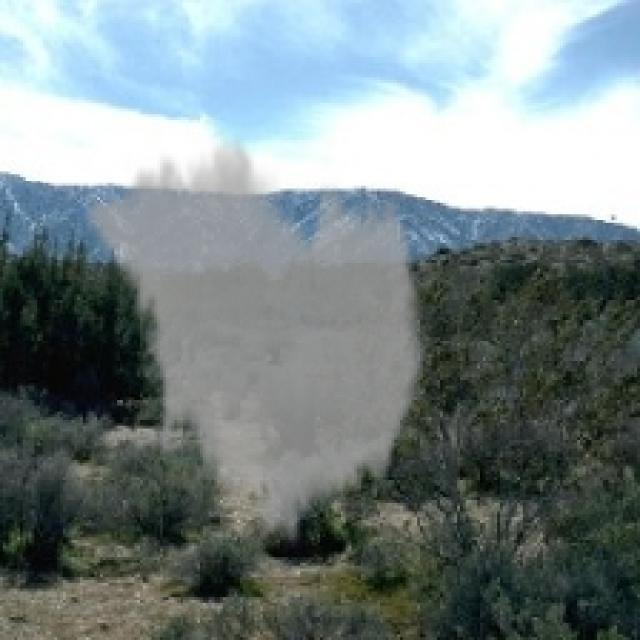Smoke: (82, 126, 428, 552)
